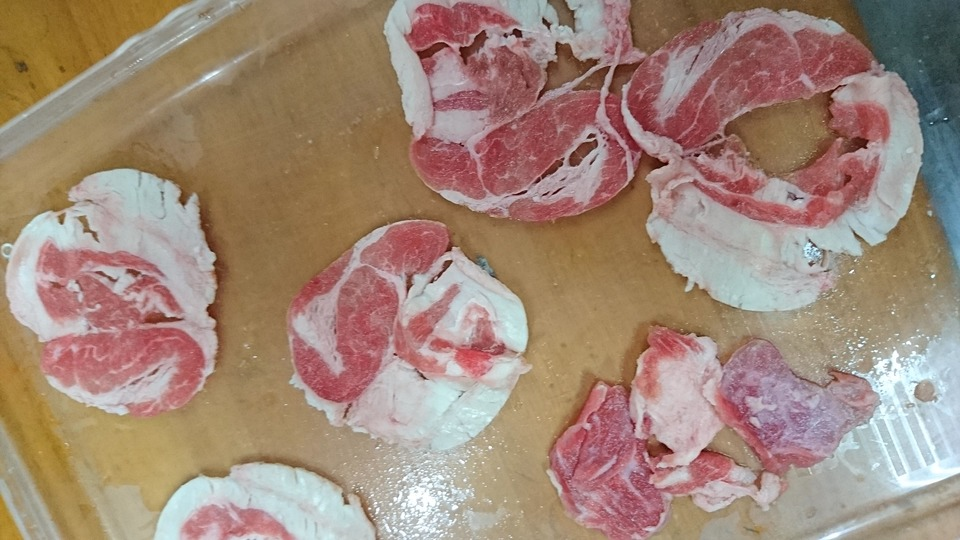restructured meat: (633, 1, 924, 318), (539, 324, 896, 537), (292, 216, 534, 446), (388, 1, 630, 230), (7, 169, 223, 418)
